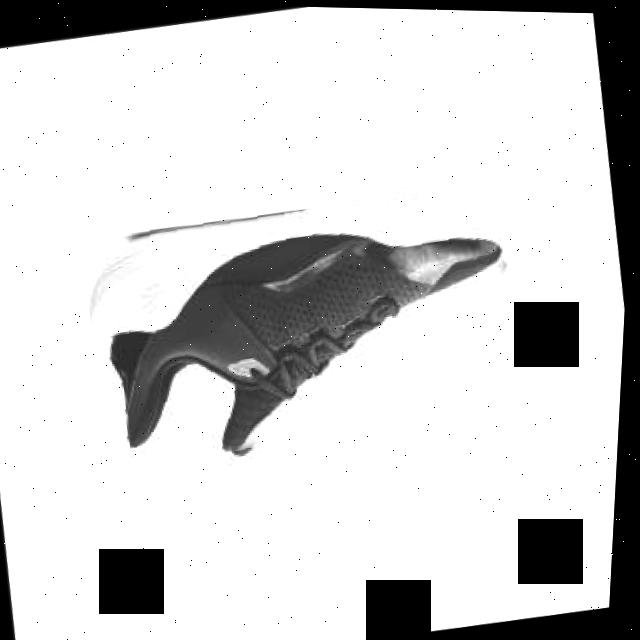shoe: (75, 173, 541, 480)
